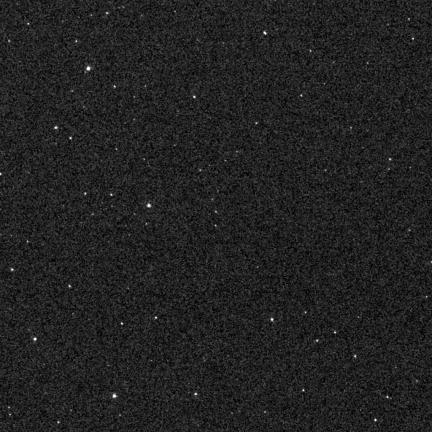blob: (147, 203, 151, 207), (113, 394, 116, 398)
